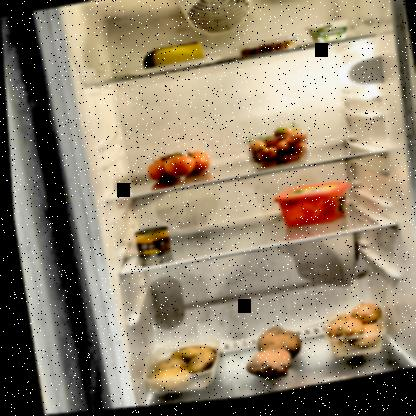butter: (267, 182, 355, 238)
cheese: (139, 41, 208, 75)
corn: (131, 228, 170, 262)
onion: (315, 305, 386, 369)
potato: (136, 343, 216, 398)
shrimp: (236, 43, 293, 63)
strawberries: (238, 128, 309, 177)
sweet_potato: (232, 324, 302, 392)
tomato: (140, 149, 213, 187)
